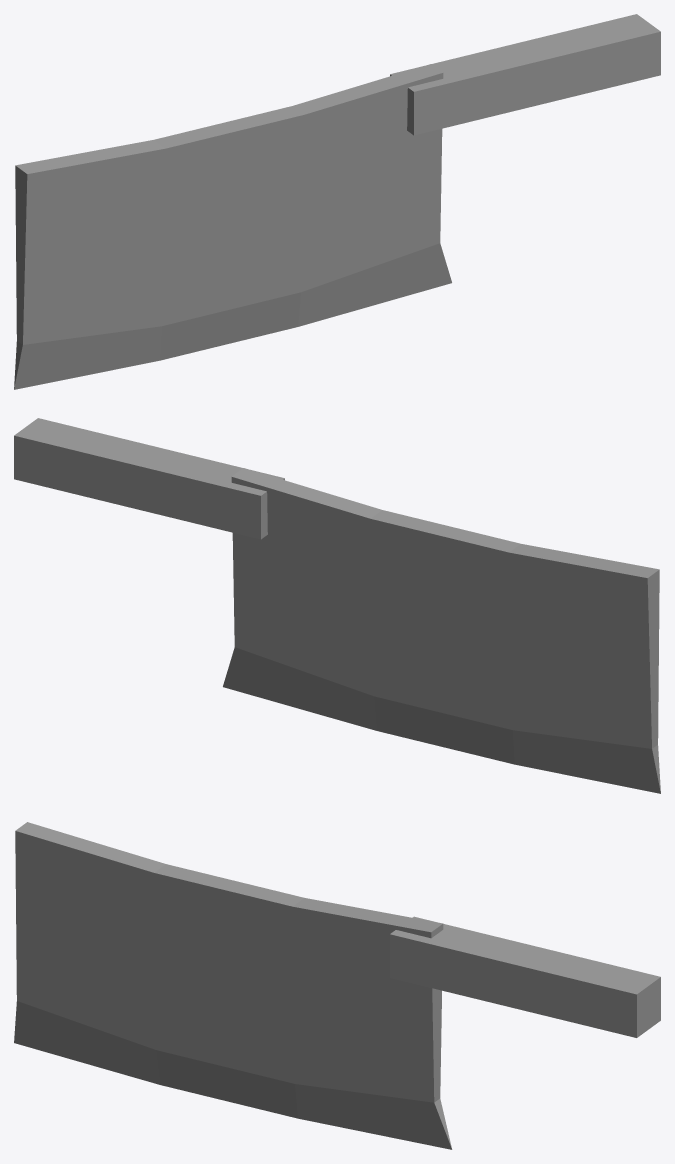
The model's file is ButchersKnife.fbx.
The picture shows the model from 3 angles, top to bottom: view 1: azimuth 30°, elevation 25°; view 2: azimuth 150°, elevation 25°; view 3: azimuth 330°, elevation 25°; orthographic projection.
Visible parts, largest first — view 1: ButchersKnife; view 2: ButchersKnife; view 3: ButchersKnife.
Part boxes in pixels (<box>): ButchersKnife: <box>14,14,660,389</box>; ButchersKnife: <box>14,418,660,793</box>; ButchersKnife: <box>14,822,660,1149</box>.
Bounding box in the file's own units: 30.43 × 10.29 × 2.
Materials: 1 (1 with a texture image).
